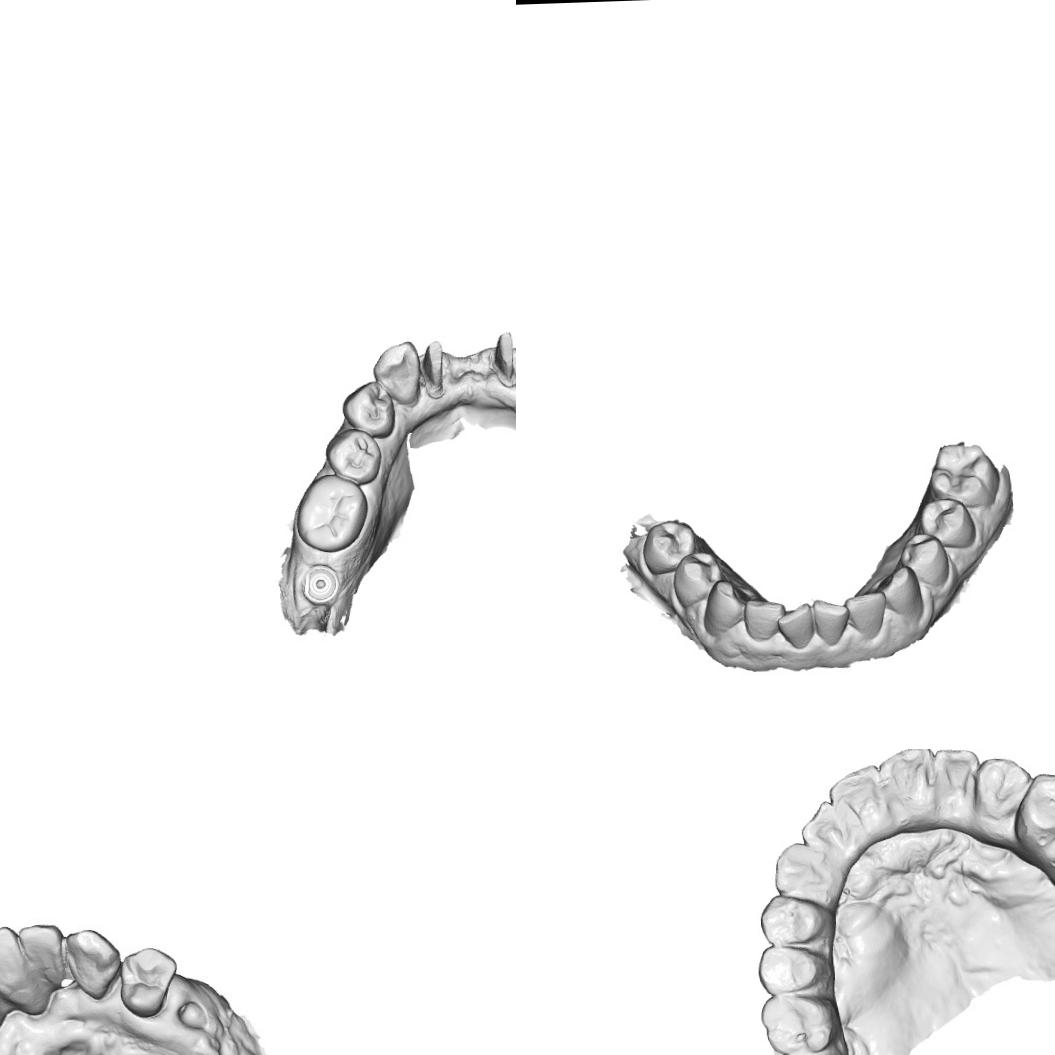canine: (771, 838, 855, 908), (972, 752, 1033, 822), (369, 339, 424, 412), (699, 576, 752, 637), (68, 921, 112, 991), (880, 563, 926, 623)
crown: (420, 337, 447, 393), (491, 328, 516, 385)
implant: (300, 562, 341, 608)
incisor: (879, 749, 942, 827), (826, 762, 886, 832), (798, 796, 858, 866), (21, 921, 72, 982), (931, 749, 980, 809), (0, 925, 36, 1000), (774, 597, 818, 654), (741, 594, 788, 645), (808, 597, 852, 650), (844, 589, 888, 639)
molar: (293, 471, 370, 556), (926, 438, 1000, 510), (758, 992, 839, 1055), (772, 1041, 857, 1055)
premolar: (754, 942, 840, 996), (116, 943, 174, 1023), (756, 891, 836, 949), (322, 426, 384, 488), (339, 377, 396, 441), (639, 518, 697, 580), (918, 496, 978, 552), (671, 548, 724, 611), (900, 530, 954, 590), (1013, 771, 1055, 846)
